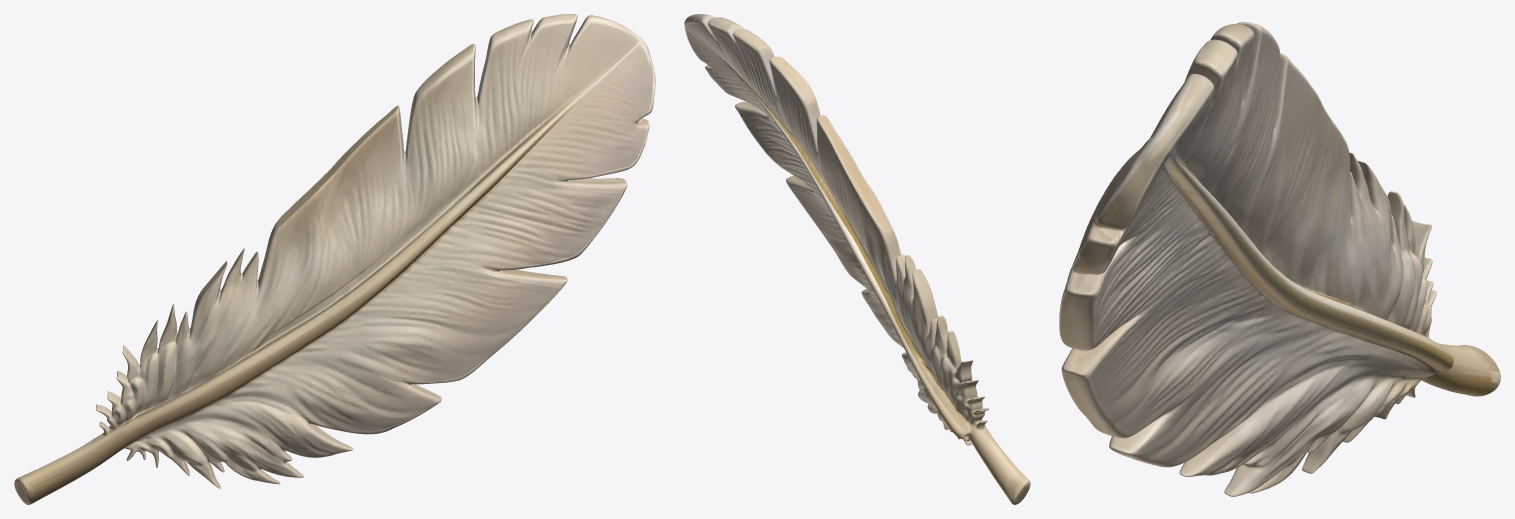
Rendered from Meshy_AI_Ivory_Feather_0714165218_texture.fbx.
3 views of the same model, side by side, from view 1: azimuth 30°, elevation 25°; view 2: azimuth 150°, elevation 25°; view 3: azimuth 270°, elevation 25° (orthographic). The views are drawn at different scales.
Parts seen in each view (by area): view 1: mesh_node; view 2: mesh_node; view 3: mesh_node.
Boxes of the visible parts, <box> form: mesh_node: <box>14,14,655,504</box>; mesh_node: <box>684,14,1030,504</box>; mesh_node: <box>1059,22,1500,496</box>.
Bounding box in the file's own units: 190 × 150 × 86.31.
Materials: 1 (1 with a texture image).
